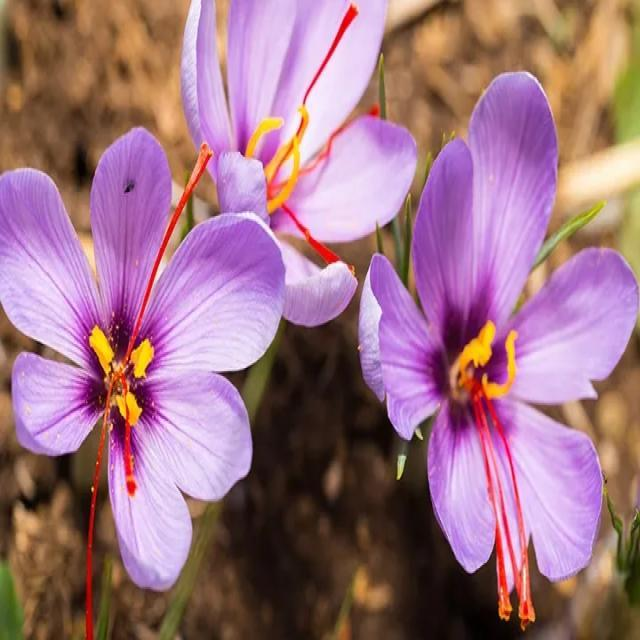Flower: (354, 130, 626, 579), (12, 154, 256, 574), (186, 7, 407, 226)
stigma: (447, 382, 539, 638), (117, 140, 225, 347), (63, 365, 126, 640), (283, 8, 374, 112), (284, 198, 346, 264)
